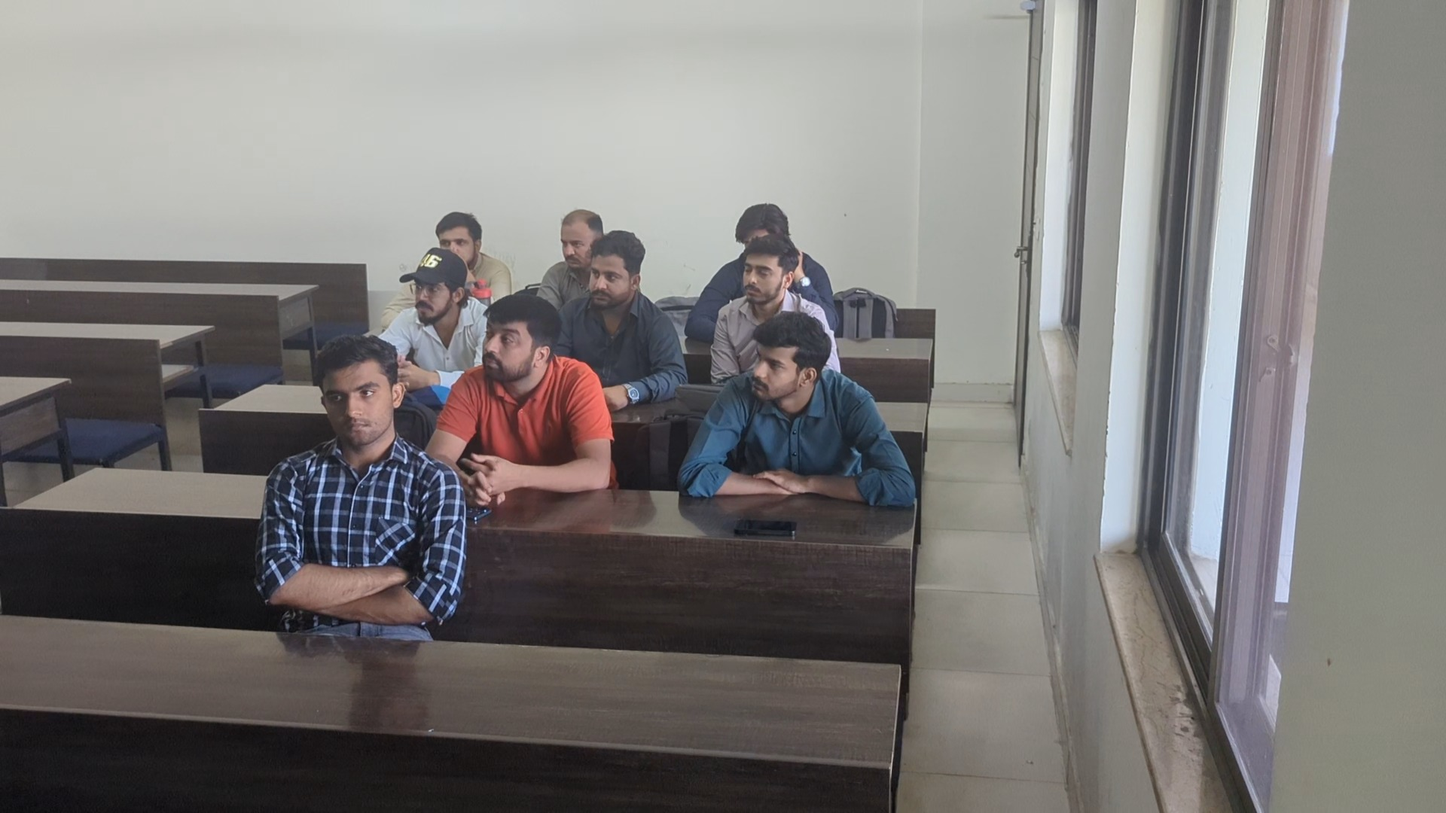look_forward: (286, 341, 433, 550), (583, 250, 669, 393), (737, 326, 827, 440), (397, 255, 483, 357), (477, 304, 548, 419), (722, 248, 811, 328), (540, 207, 599, 289), (435, 205, 494, 269)
